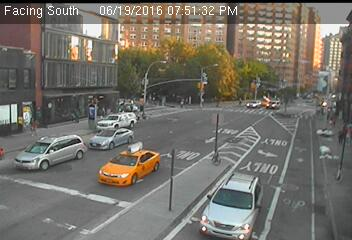neg: (73, 44, 102, 82), (221, 40, 244, 71), (243, 156, 266, 186), (300, 128, 322, 158), (294, 73, 316, 102), (136, 36, 157, 65), (297, 170, 318, 199), (93, 144, 114, 172), (60, 110, 81, 138), (273, 120, 293, 147), (320, 34, 340, 61), (154, 92, 173, 118), (191, 40, 210, 66), (188, 104, 207, 129), (44, 49, 63, 74), (190, 189, 208, 214), (45, 171, 62, 194), (262, 93, 278, 115), (229, 186, 245, 208), (134, 141, 150, 161), (159, 198, 175, 218), (276, 44, 291, 64), (231, 123, 246, 142), (88, 197, 101, 215)
